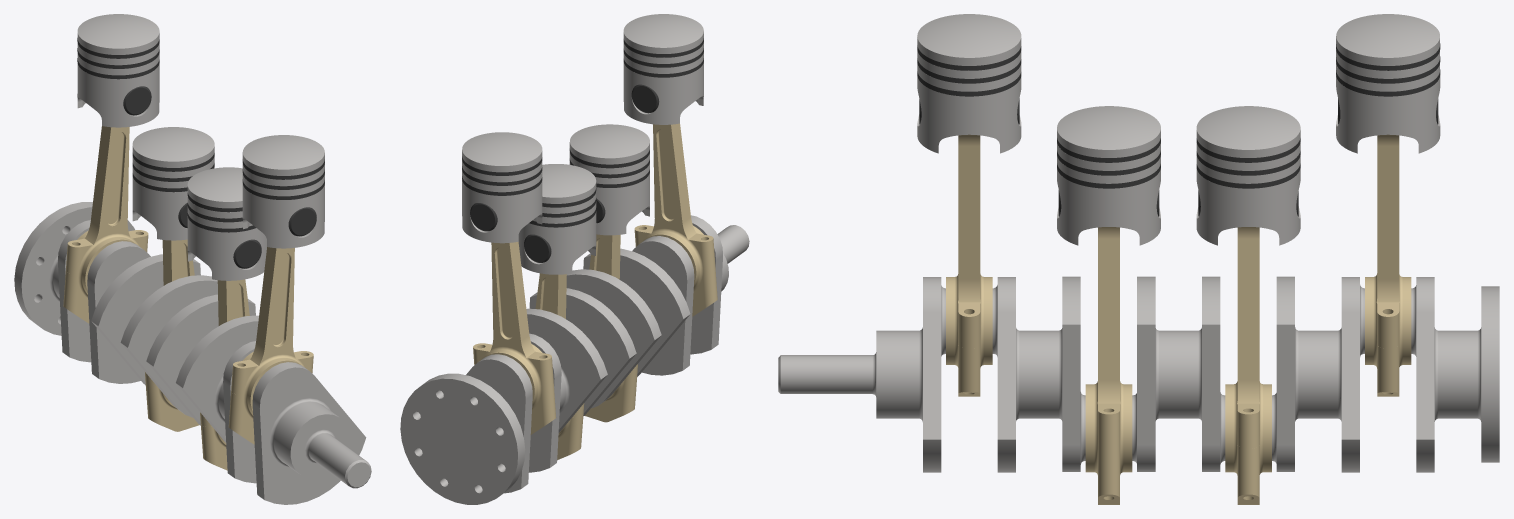
File: crankshaft.glb
The picture shows the model from 3 angles, left to right: view 1: azimuth 30°, elevation 25°; view 2: azimuth 150°, elevation 25°; view 3: azimuth 270°, elevation 25°; orthographic projection. The views are drawn at different scales.
Parts seen in each view (by area): view 1: Solid1 (×15), Solid3; view 2: Solid1 (×15), Solid3; view 3: Solid1 (×12), Solid3.
Part boxes in pixels (box(x1,y1,x2,y2)): Solid1 (×15): box(63, 14, 324, 470); Solid3: box(14, 202, 371, 504); Solid1 (×15): box(462, 14, 717, 459); Solid3: box(400, 215, 749, 504); Solid1 (×12): box(917, 14, 1440, 504); Solid3: box(778, 276, 1499, 472).
Size of the model in its own units: 0.1533 by 0.4127 by 0.589.
